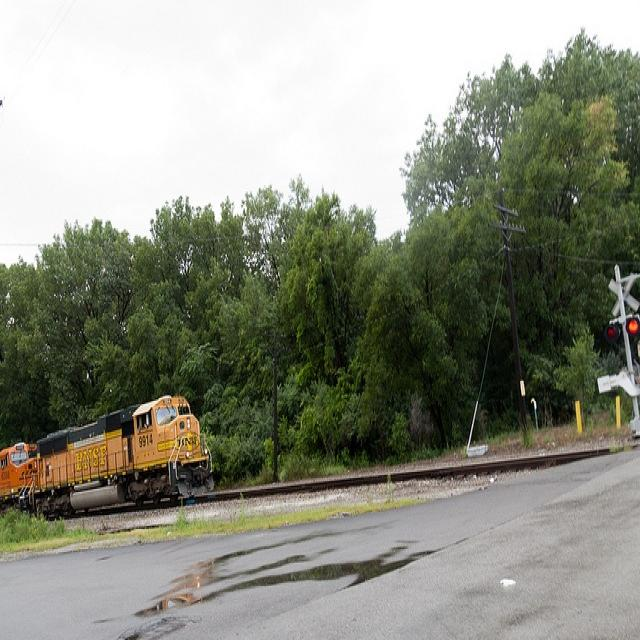pole: (496, 191, 532, 444), (612, 264, 638, 419), (269, 341, 280, 483)
warning_column: (573, 396, 584, 434), (613, 392, 622, 430)
